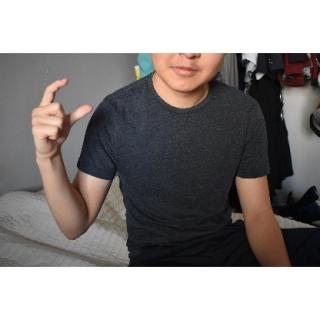DELL: (28, 74, 96, 160)
